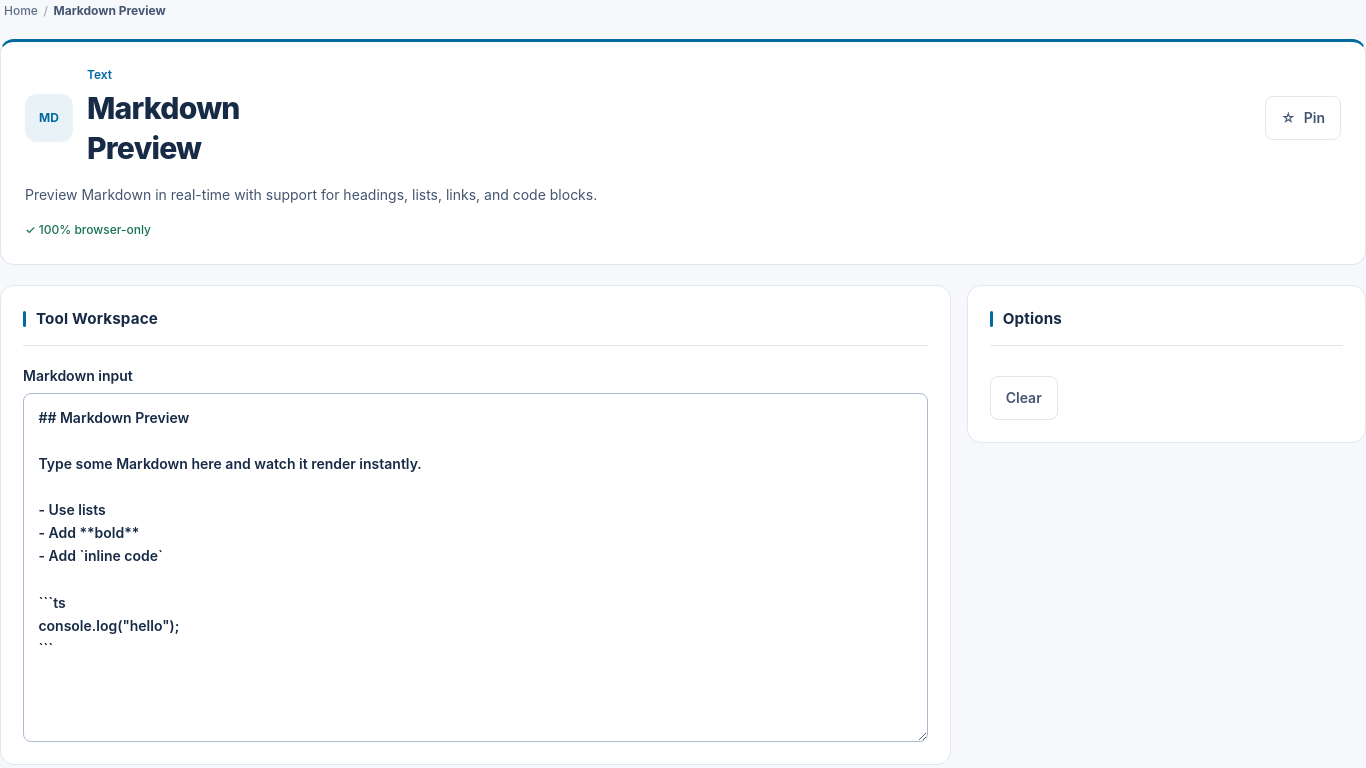
Test: MarkdownPreviewPage PDF export › disables PDF export when the preview is empty
Click the button "Clear" at [1024, 398], box [990,376,1058,420]
(page scrolled)
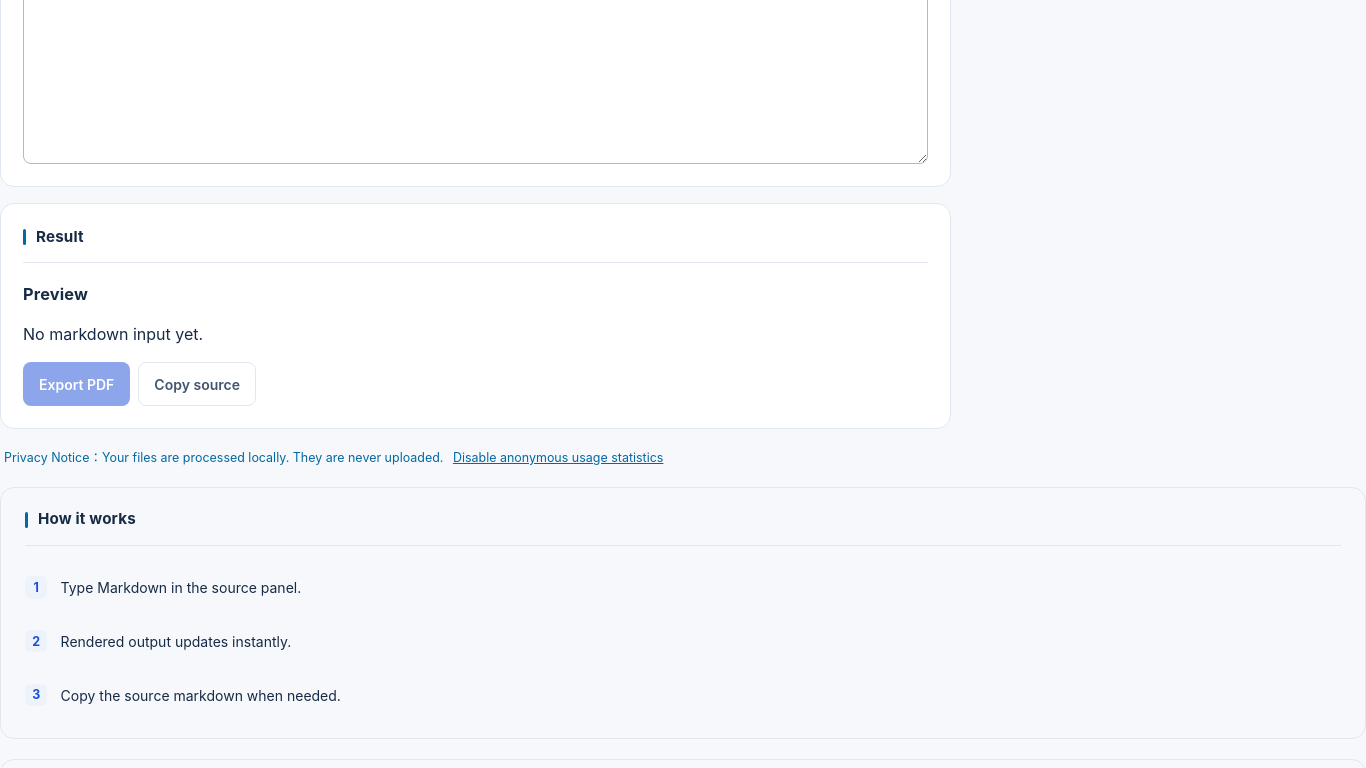
Expected: the button "Export PDF" is disabled, [23,362,130,406]
